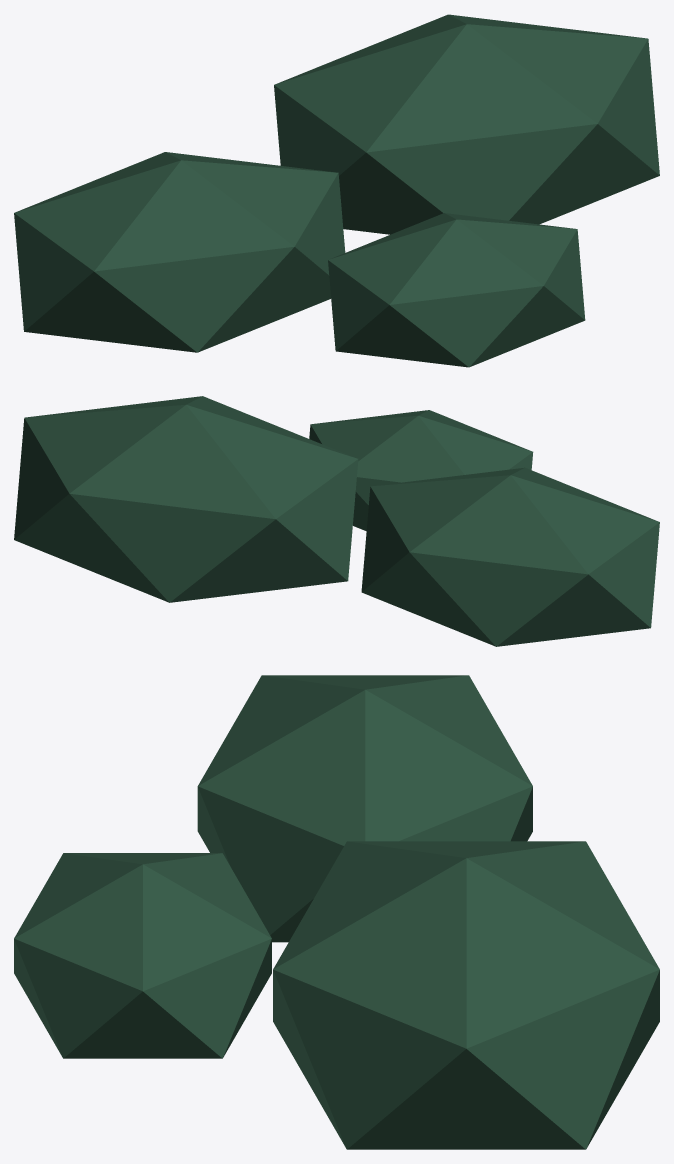
The model's file is Desert_DryBrushCluster_Simple.glb.
3 renders of one model, top to bottom at view 1: azimuth 30°, elevation 25°; view 2: azimuth 150°, elevation 25°; view 3: azimuth 270°, elevation 25°, orthographic. The views are drawn at different scales.
Visible parts, largest first — view 1: Desert_DryBrushCluster_Simple; view 2: Desert_DryBrushCluster_Simple; view 3: Desert_DryBrushCluster_Simple.
Part boxes in pixels (box(x1,y1,x2,y2)): Desert_DryBrushCluster_Simple: box(14, 14, 659, 367); Desert_DryBrushCluster_Simple: box(14, 396, 659, 646); Desert_DryBrushCluster_Simple: box(14, 675, 659, 1149).
Bounding box in the file's own units: 2.45 × 0.75 × 1.6.
